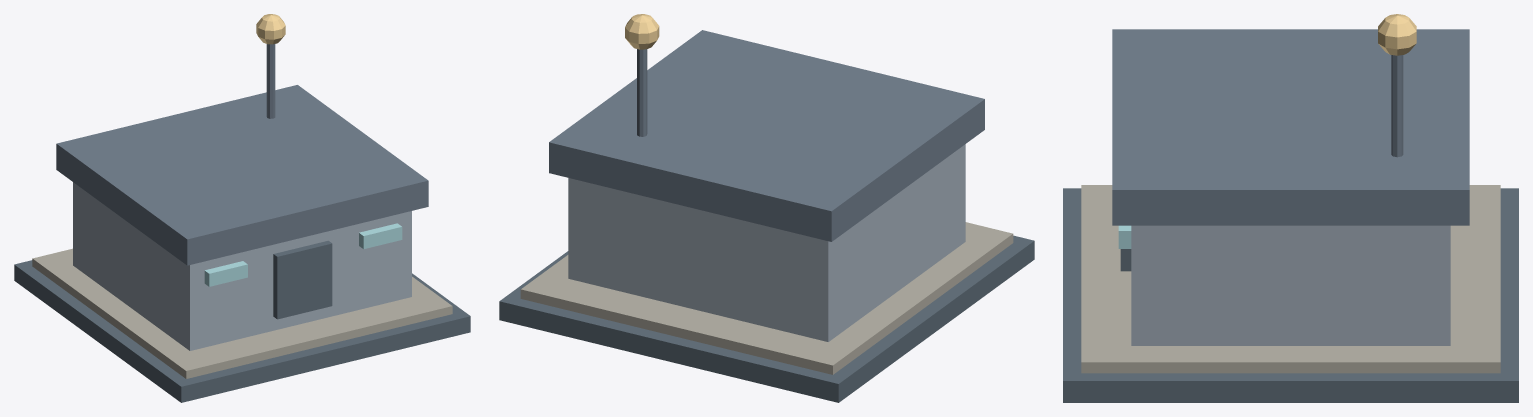
File: command-bunker.glb
3 views of the same model, side by side, from view 1: azimuth 30°, elevation 25°; view 2: azimuth 150°, elevation 25°; view 3: azimuth 270°, elevation 25° (orthographic). The views are drawn at different scales.
Parts seen in each view (by area): view 1: Bunker de commandement; view 2: Bunker de commandement; view 3: Bunker de commandement.
Part boxes in pixels (bbox=[...]): Bunker de commandement: bbox=[14, 14, 470, 402]; Bunker de commandement: bbox=[499, 14, 1034, 402]; Bunker de commandement: bbox=[1063, 14, 1518, 402].
Size of the model in its own units: 3 by 2.44 by 3.
